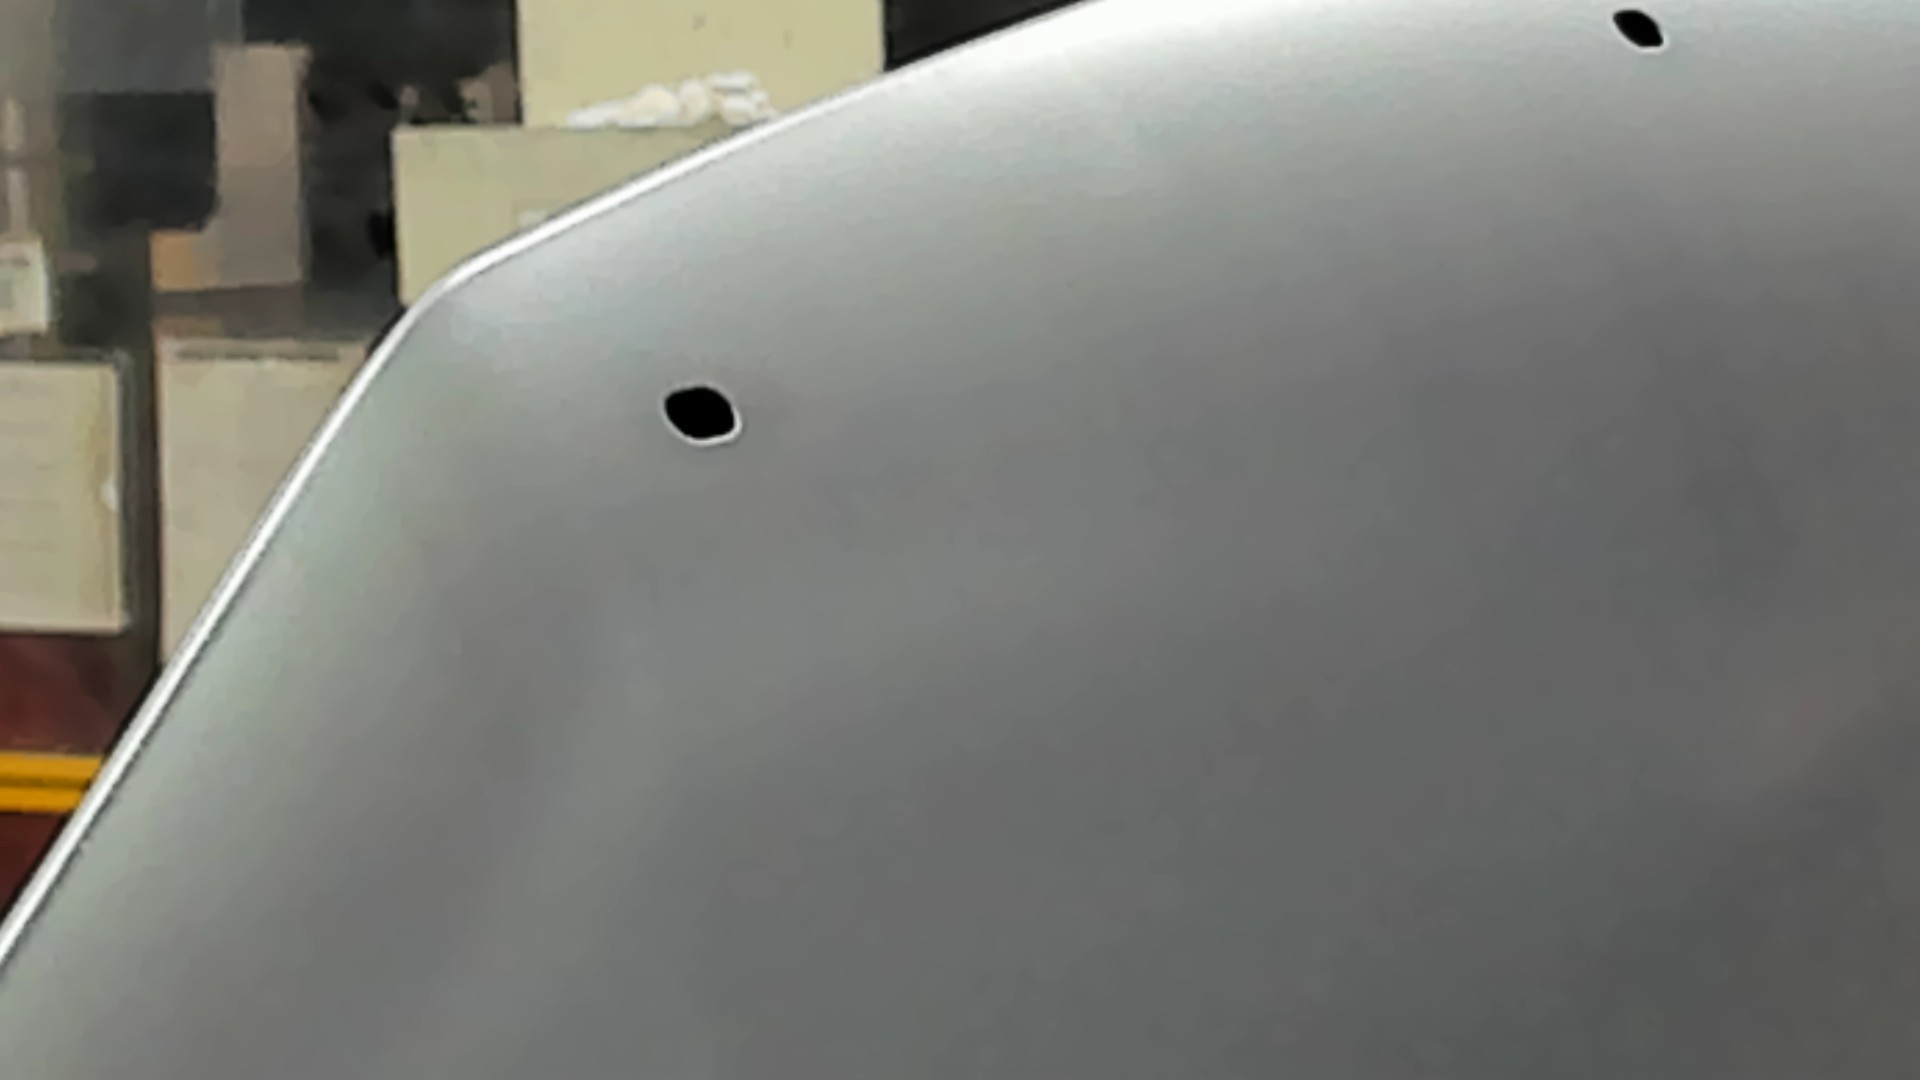amorfo: (655, 381, 752, 444), (1601, 3, 1675, 61)
capo: (911, 88, 1920, 1080)
